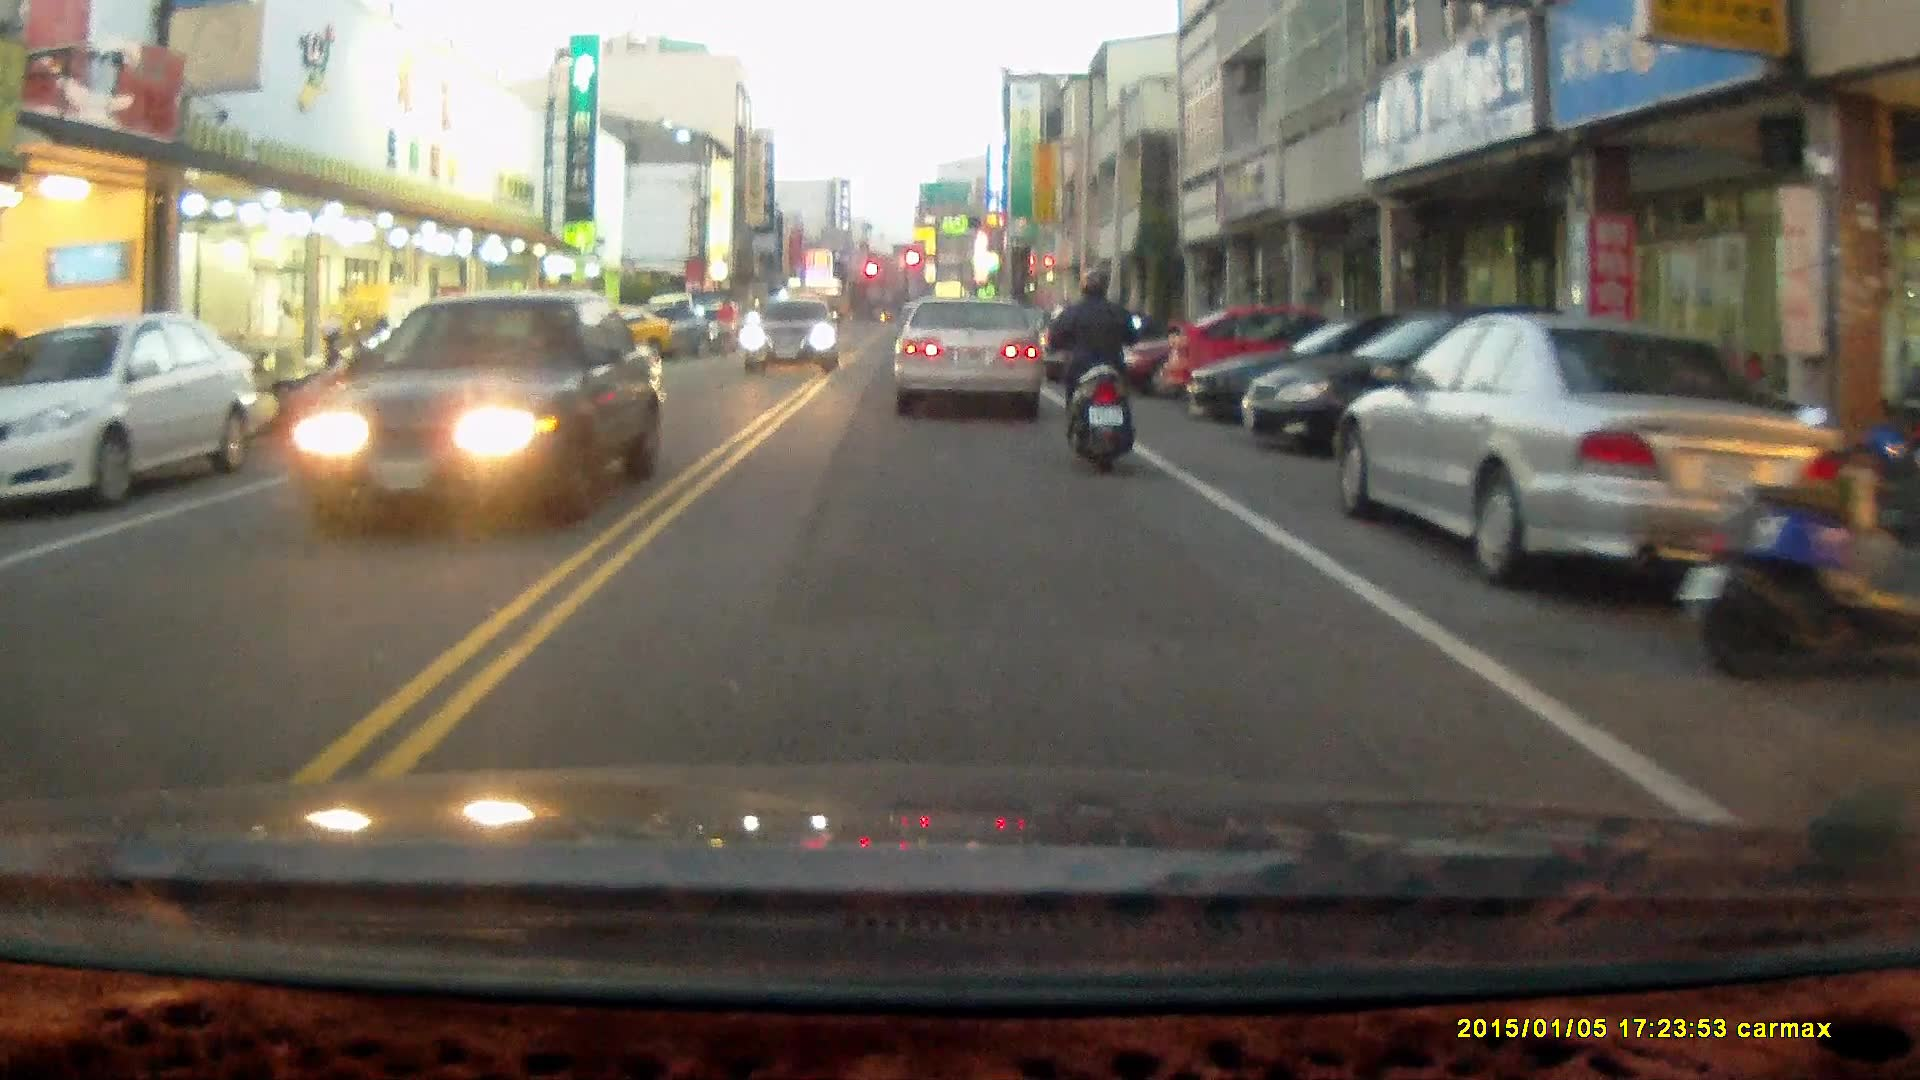pedestrian: (270, 296, 300, 370)
rider: (1044, 262, 1143, 472), (710, 290, 736, 356)
vehicle: (1339, 307, 1855, 590), (285, 286, 666, 530), (0, 313, 273, 514), (1238, 302, 1614, 445), (1180, 308, 1532, 427), (1159, 298, 1409, 400), (892, 295, 1045, 418), (739, 293, 841, 368)
